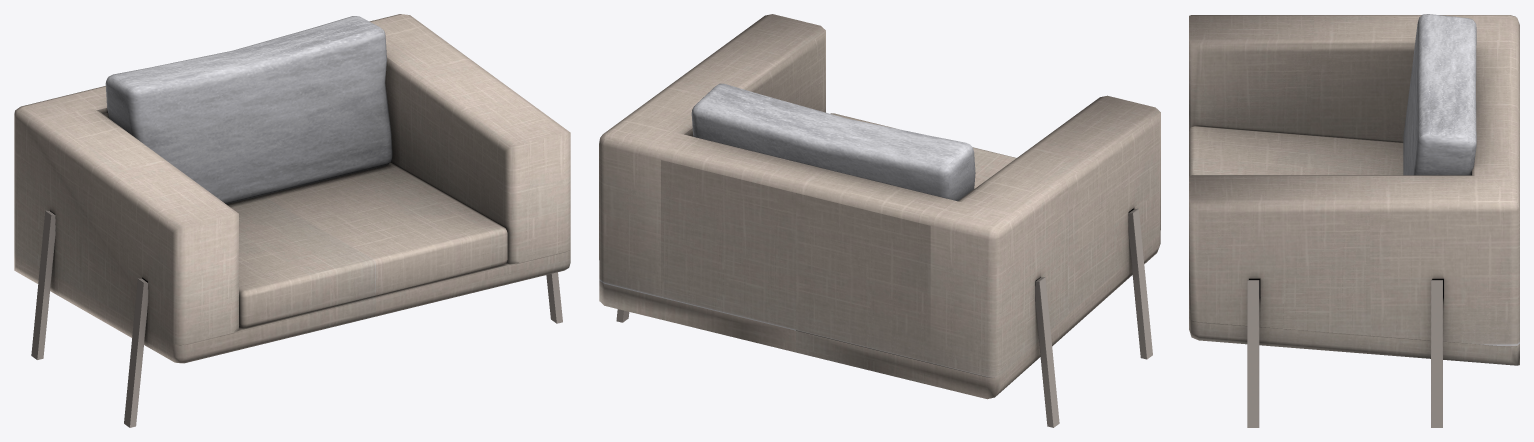
The model's file is Sillon.fbx.
3 views of the same model, side by side, from view 1: azimuth 30°, elevation 25°; view 2: azimuth 150°, elevation 25°; view 3: azimuth 270°, elevation 25° (orthographic).
Visible parts, largest first — view 1: Sillon; view 2: Sillon; view 3: Sillon.
Part boxes in pixels (x1,y1,x2,y2): Sillon: (14, 14, 570, 427); Sillon: (599, 14, 1160, 427); Sillon: (1189, 14, 1519, 427).
Bounding box in the file's own units: 50.71 × 28.2 × 33.81.
1 material, 1 textured.
